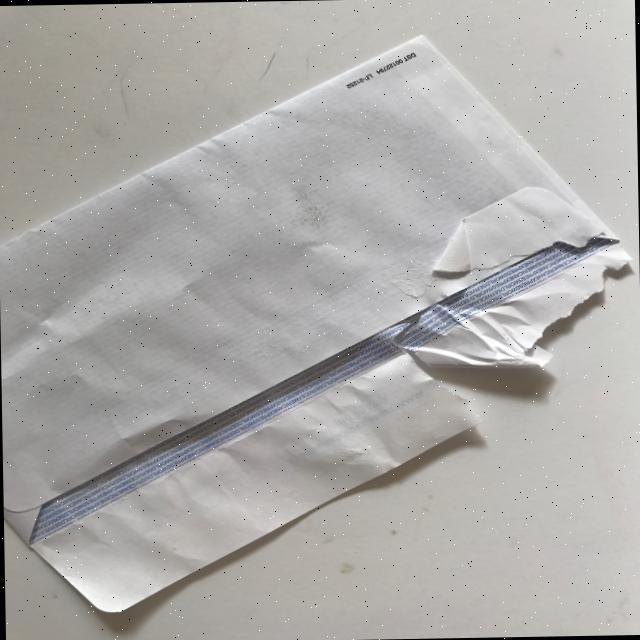paper: (0, 30, 637, 614)
